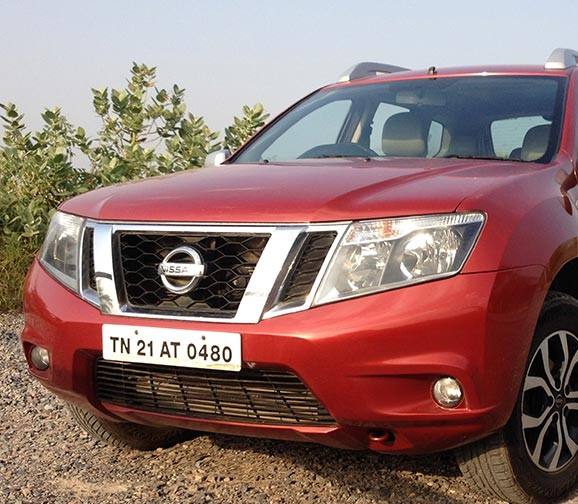TN21AT0480: (102, 323, 239, 371)
